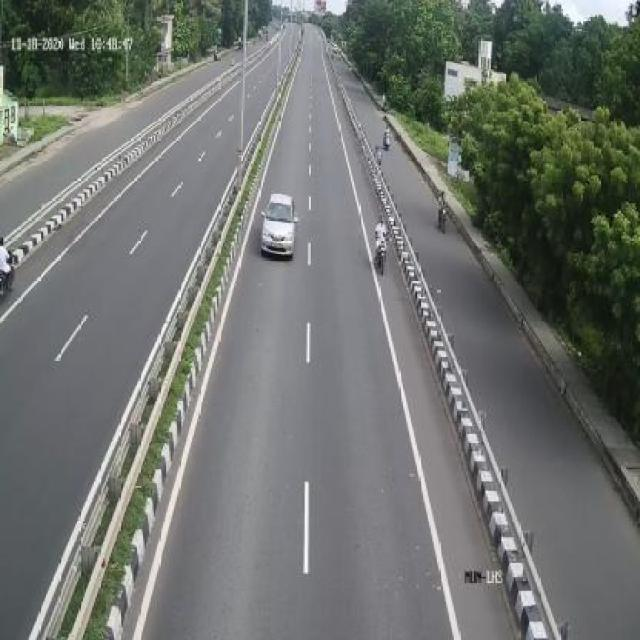car: (263, 189, 299, 262)
